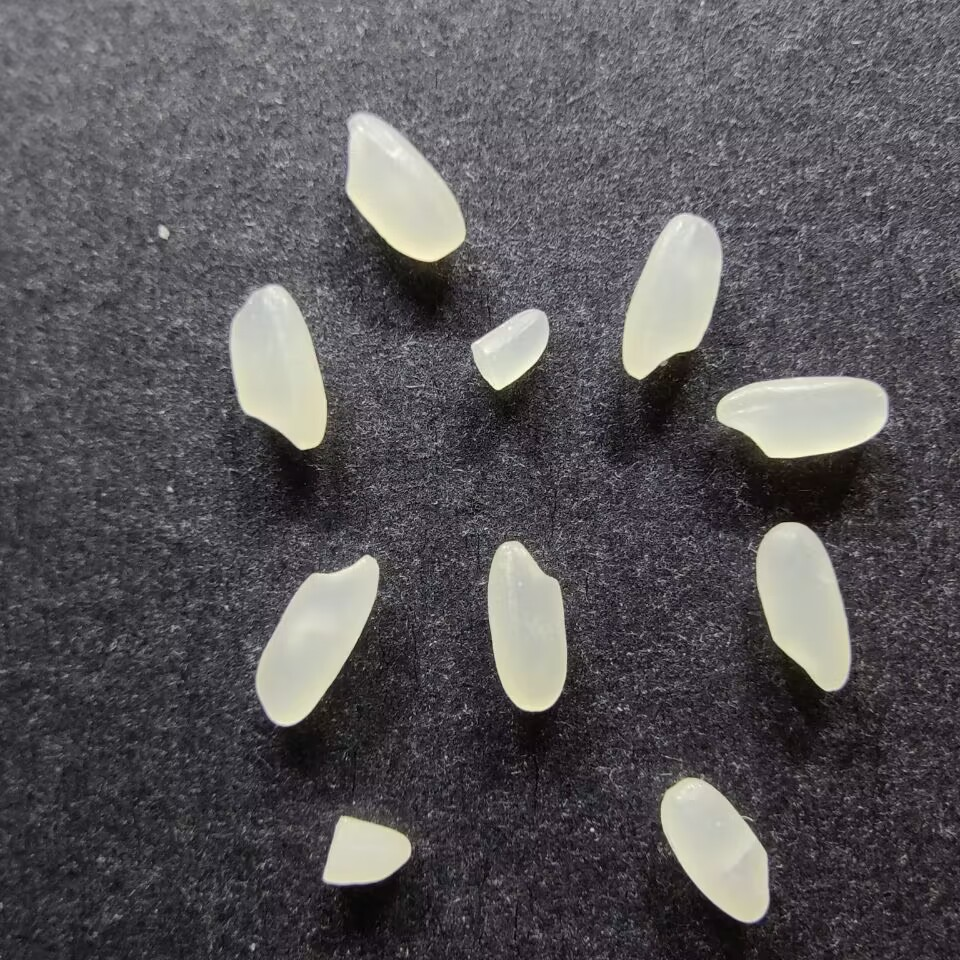broken: (468, 306, 551, 392), (317, 814, 414, 887)
rice: (252, 553, 381, 728), (343, 111, 467, 262), (753, 520, 854, 693), (620, 210, 721, 381), (227, 283, 327, 452), (658, 775, 771, 924), (714, 374, 888, 460), (485, 538, 569, 712)
